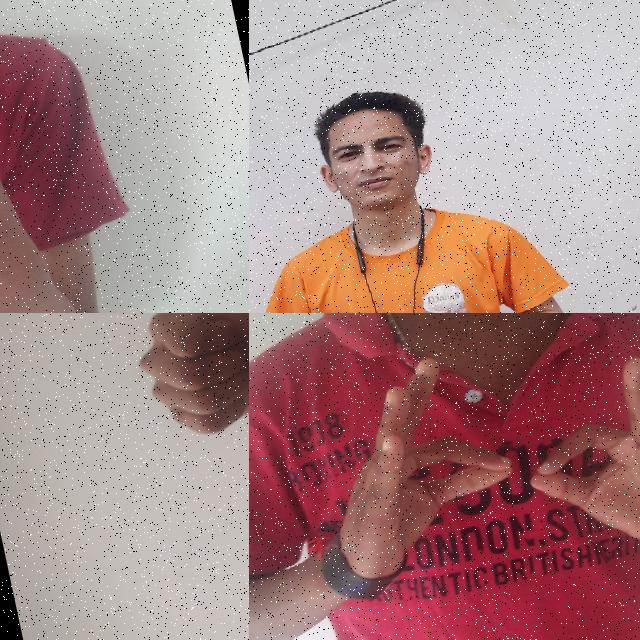Five Fathers: (299, 286, 528, 313)
Okay: (296, 342, 540, 602), (507, 341, 640, 588)
Reversed Victory: (0, 0, 73, 313)
Thumbs Up: (103, 313, 249, 463)
